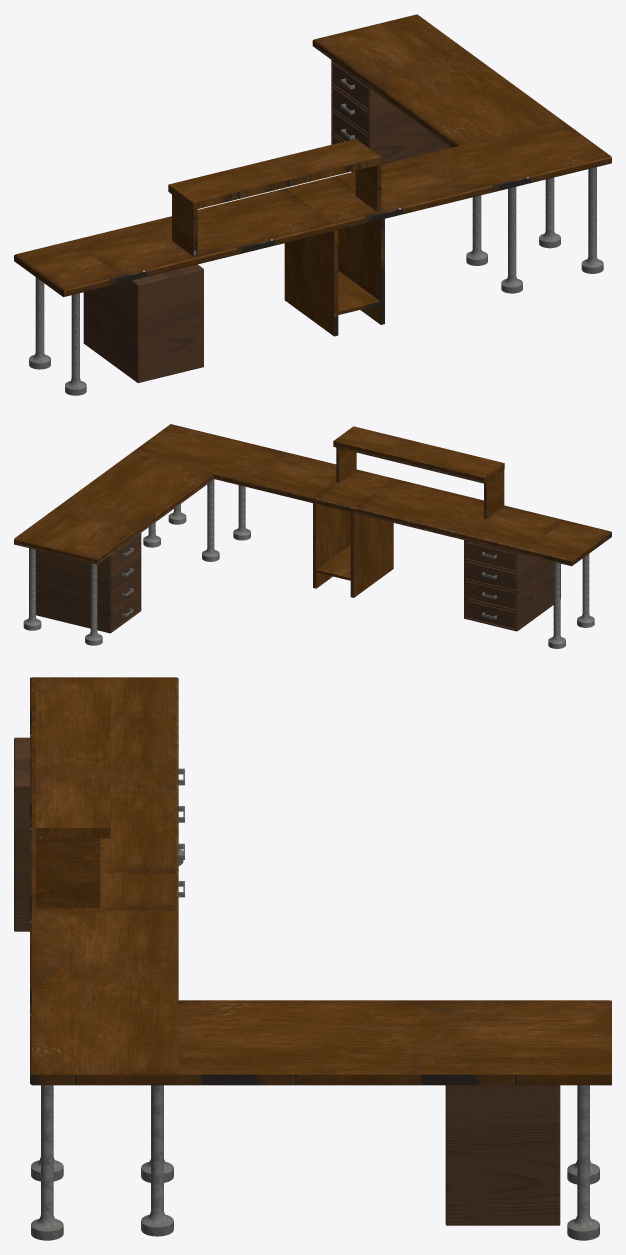
File: Long_Table.fbx
3 views of the same model, one above another, from view 1: azimuth 30°, elevation 25°; view 2: azimuth 150°, elevation 25°; view 3: azimuth 270°, elevation 25° (orthographic). The views are drawn at different scales.
Parts seen in each view (by area): view 1: Cube.172, Cube.173, Cube.160, Cube.108, Cylinder.009, Cylinder.010, Cylinder.012, Cylinder.005, Cylinder.011, Cylinder.006; view 2: Cube.172, Cube.108, Cube.173, Cube.160, Cylinder.005, Cylinder.007, Cylinder.006, Cylinder.008, Cylinder.012, Cylinder.010; view 3: Cube.172, Cube.108, Cube.160, Cube.173, Cylinder.008, Cylinder.009, Cylinder.011.
Part boxes in pixels (<box>): Cube.172: <box>14,14,611,336</box>; Cube.173: <box>83,264,203,382</box>; Cube.160: <box>168,139,381,256</box>; Cube.108: <box>331,60,451,171</box>; Cylinder.009: <box>581,167,603,273</box>; Cylinder.010: <box>501,187,522,293</box>; Cylinder.012: <box>65,293,86,395</box>; Cylinder.005: <box>29,277,50,369</box>; Cylinder.011: <box>539,177,560,248</box>; Cylinder.006: <box>466,195,487,265</box>; Cube.172: <box>14,424,611,597</box>; Cube.108: <box>36,533,141,633</box>; Cube.173: <box>464,540,560,631</box>; Cube.160: <box>333,426,504,519</box>; Cylinder.005: <box>548,562,565,648</box>; Cylinder.007: <box>85,563,102,645</box>; Cylinder.006: <box>202,479,219,561</box>; Cylinder.008: <box>23,548,41,630</box>; Cylinder.012: <box>577,554,594,627</box>; Cylinder.010: <box>233,485,250,540</box>; Cube.172: <box>30,677,611,1085</box>; Cube.108: <box>445,1085,560,1225</box>; Cube.160: <box>36,691,110,908</box>; Cube.173: <box>14,737,184,931</box>; Cylinder.008: <box>567,1085,599,1240</box>; Cylinder.009: <box>31,1085,63,1240</box>; Cylinder.011: <box>141,1085,173,1236</box>.
Bounding box in the file's own units: 552 × 161 × 350.
3 materials, 3 textured.
